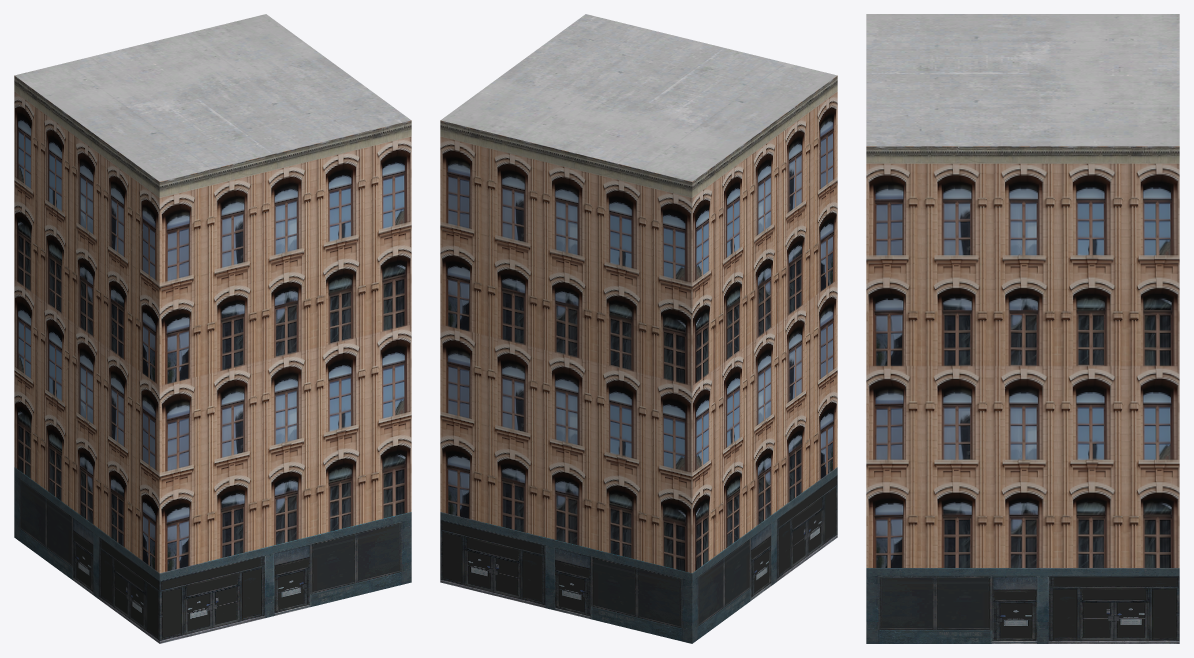
File: Classical Building 01.FBX
3 views of the same model, side by side, from view 1: azimuth 30°, elevation 25°; view 2: azimuth 150°, elevation 25°; view 3: azimuth 270°, elevation 25° (orthographic). The views are drawn at different scales.
Parts seen in each view (by area): view 1: Classical Building 01; view 2: Classical Building 01; view 3: Classical Building 01.
Part boxes in pixels (bbox=[...]): Classical Building 01: bbox=[14, 14, 411, 643]; Classical Building 01: bbox=[440, 14, 837, 643]; Classical Building 01: bbox=[866, 14, 1179, 643].
Size of the model in its own units: 290 by 509 by 290.
